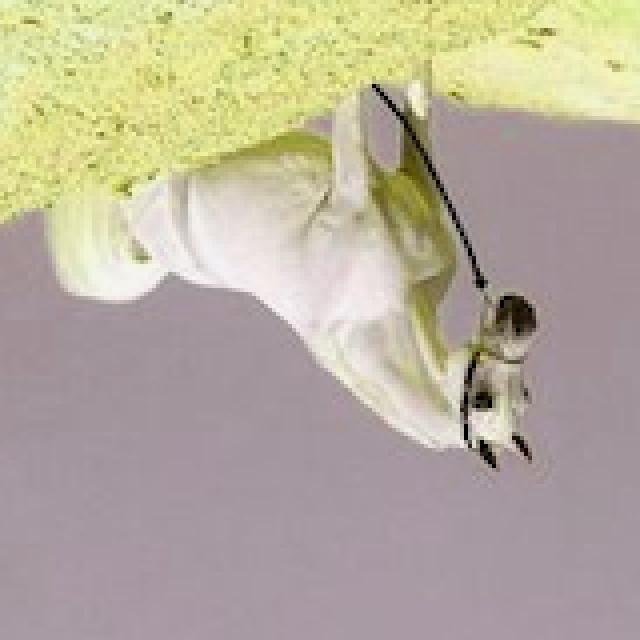Horse: (36, 64, 548, 480)
